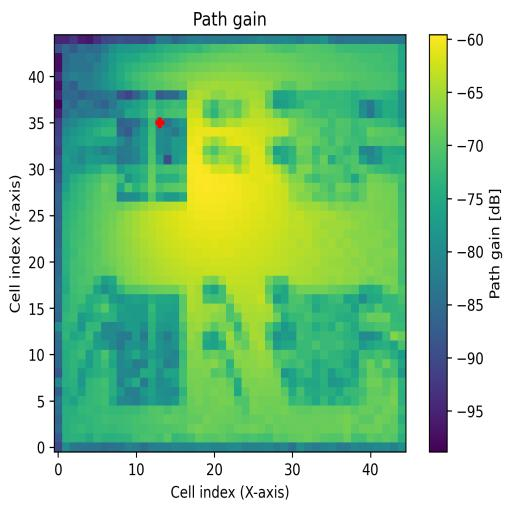Concrete: (288, 89, 367, 201)
Glass: (118, 90, 187, 204)
Metal: (282, 284, 366, 406)
Wood: (109, 294, 179, 407)
